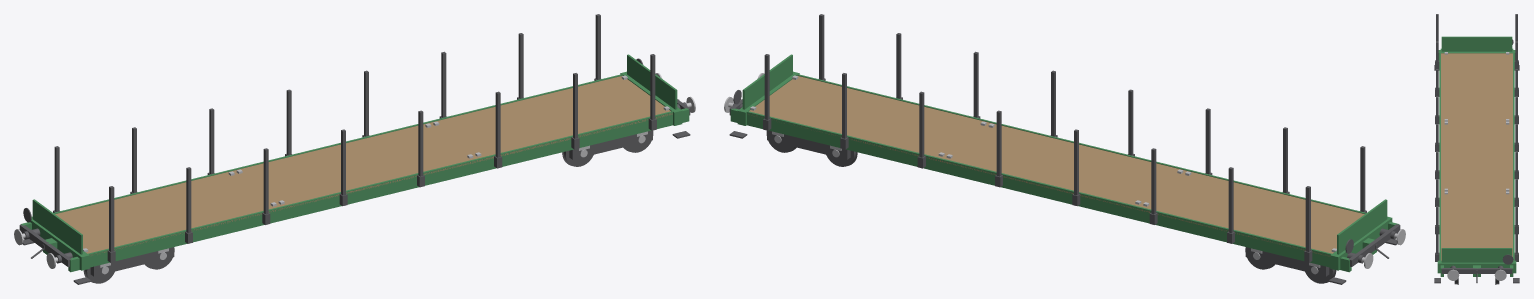
File: SM_FlatWagon.fbx
3 renders of one model, left to right at view 1: azimuth 30°, elevation 25°; view 2: azimuth 150°, elevation 25°; view 3: azimuth 270°, elevation 25°, orthographic. The views are drawn at different scales.
Visible parts, largest first — view 1: FW_Body, FW_Stanchions_R, FW_Stanchions_L, FW_EndWall_B, FW_EndWall_A, FW_Bogie2_Frame, FW_Bogie1_Frame; view 2: FW_Body, FW_Stanchions_L, FW_Stanchions_R, FW_EndWall_B, FW_EndWall_A, FW_Bogie2_Frame, FW_Bogie1_Frame; view 3: FW_Body, FW_EndWall_B, FW_EndWall_A, FW_Stanchions_L, FW_Stanchions_R.
Part boxes in pixels (x1,y1,x2,y2): FW_Body: [14, 58, 695, 284]; FW_Stanchions_R: [109, 54, 655, 251]; FW_Stanchions_L: [54, 14, 600, 211]; FW_EndWall_B: [32, 199, 82, 254]; FW_EndWall_A: [627, 54, 677, 109]; FW_Bogie2_Frame: [90, 247, 174, 276]; FW_Bogie1_Frame: [569, 130, 652, 159]; FW_Body: [724, 71, 1405, 284]; FW_Stanchions_L: [764, 54, 1310, 251]; FW_Stanchions_R: [819, 14, 1365, 211]; FW_EndWall_B: [1337, 199, 1387, 254]; FW_EndWall_A: [742, 54, 792, 109]; FW_Bogie2_Frame: [1245, 247, 1329, 276]; FW_Bogie1_Frame: [767, 130, 850, 159]; FW_Body: [1434, 39, 1519, 283]; FW_EndWall_B: [1441, 36, 1512, 51]; FW_EndWall_A: [1441, 248, 1512, 262]; FW_Stanchions_L: [1515, 14, 1517, 253]; FW_Stanchions_R: [1436, 14, 1438, 253].
Size of the model in its own units: 2012 by 316 by 315.
